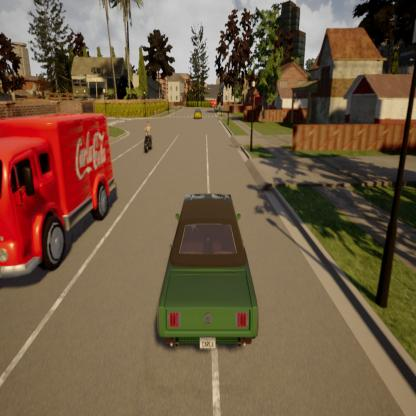Cars: (0, 106, 121, 286), (148, 183, 261, 357), (193, 106, 203, 121)
